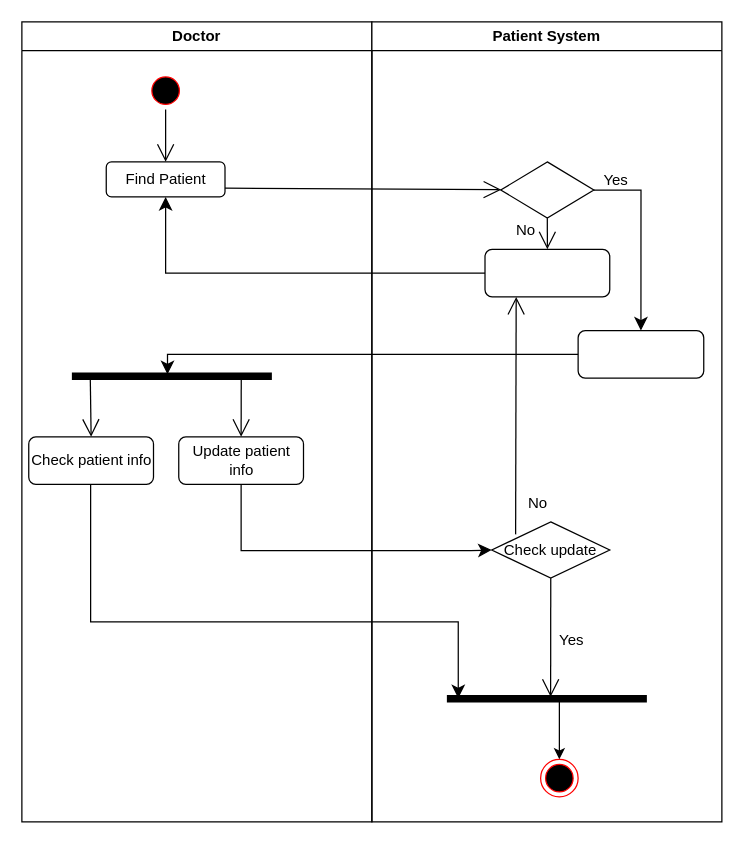
Some shapes in this 744 by 844 pixel diagram are drawn without their labels. The box of each missing label's shape, as (x1, y1, x2, y2) in pixels:
Enter to patient personal page: (577, 329, 704, 378)
Error: (484, 248, 610, 297)
Product found: (500, 161, 594, 218)
